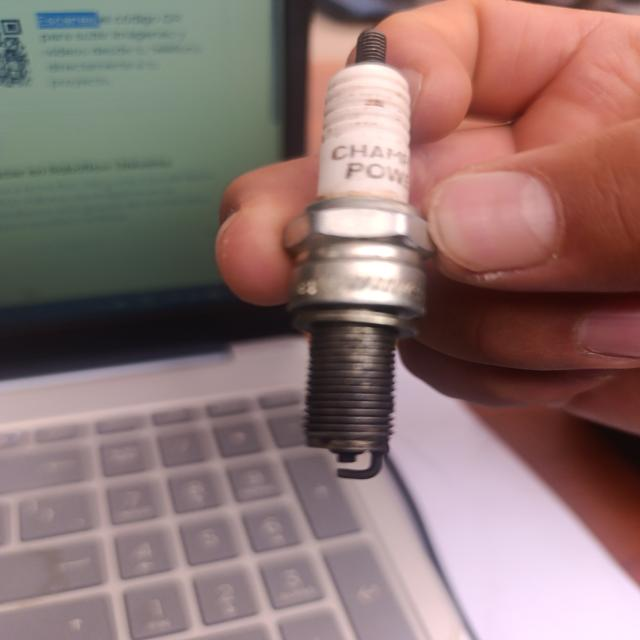bujia: (284, 30, 432, 479)
